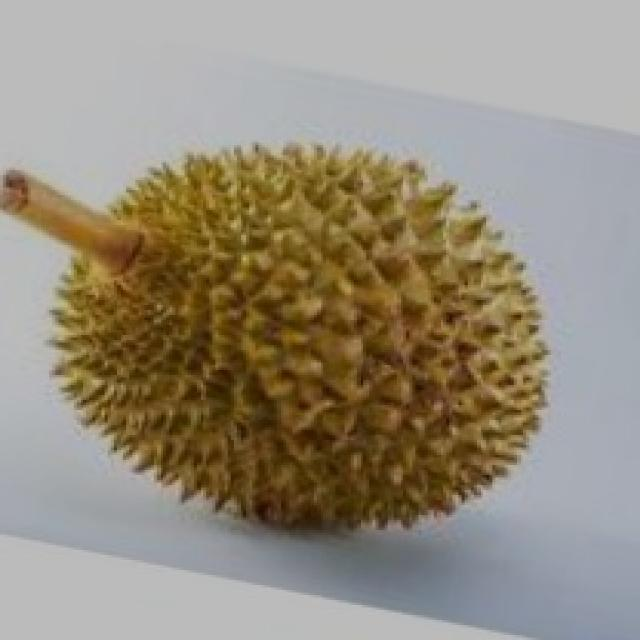fruit: (243, 173, 603, 595), (6, 222, 379, 588)
